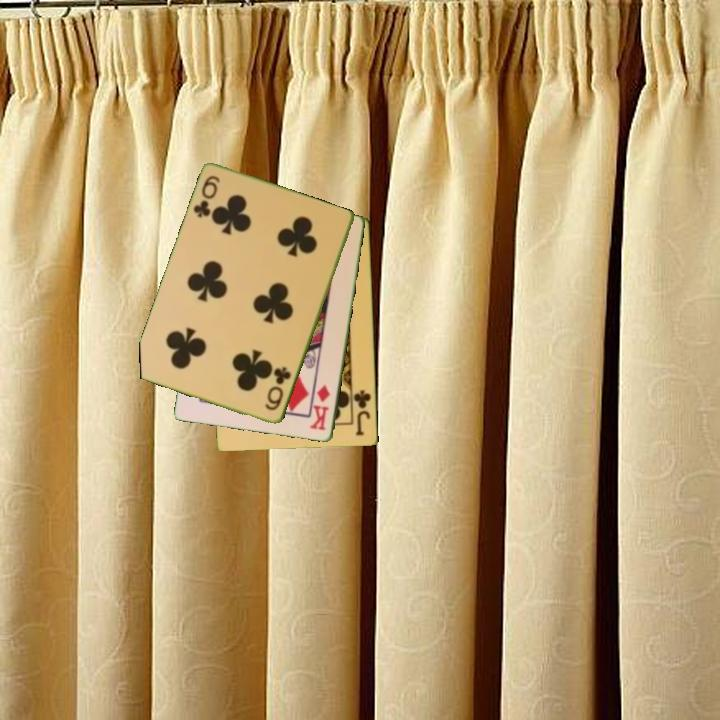6c: (262, 363, 294, 414), (190, 172, 223, 221)
Jc: (351, 386, 374, 439)
Kd: (308, 381, 333, 433)
